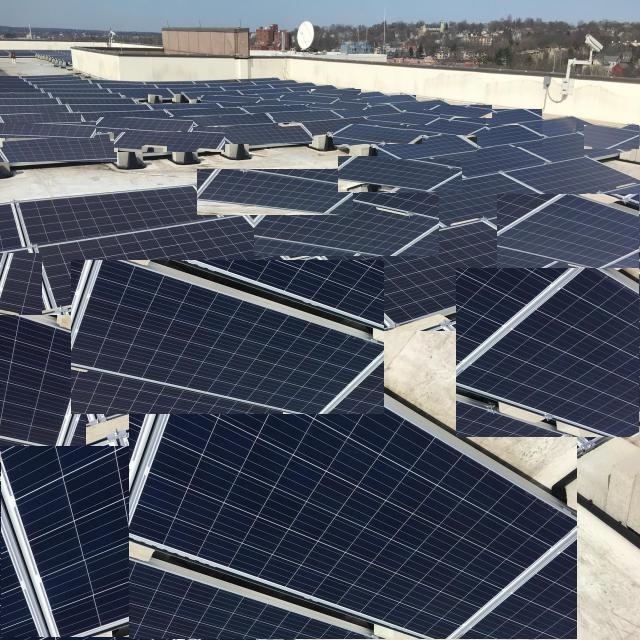Non Defective: (129, 331, 577, 639), (71, 260, 384, 414), (1, 447, 169, 637), (456, 269, 640, 437), (332, 223, 561, 322), (41, 219, 283, 304), (254, 193, 439, 256), (0, 316, 86, 446), (23, 189, 218, 243), (498, 195, 639, 268), (403, 175, 552, 227), (197, 169, 353, 215), (513, 158, 635, 201), (339, 156, 462, 192), (434, 145, 547, 177), (1, 135, 117, 162), (516, 134, 621, 161), (114, 127, 225, 152), (1, 254, 42, 317), (378, 135, 477, 159), (215, 124, 312, 144), (457, 125, 542, 147), (334, 125, 422, 144), (521, 117, 601, 137), (0, 122, 96, 138), (96, 117, 193, 132), (584, 125, 640, 149), (408, 118, 486, 135), (297, 118, 375, 135), (471, 110, 542, 126), (368, 111, 440, 125), (189, 114, 273, 126), (267, 111, 341, 123), (428, 105, 492, 118), (333, 106, 401, 117), (2, 206, 20, 246), (1, 114, 81, 123), (167, 108, 245, 116), (307, 100, 367, 110), (242, 105, 310, 113), (280, 95, 339, 104), (221, 100, 283, 108), (201, 95, 260, 103), (259, 92, 314, 100), (362, 96, 416, 104), (311, 89, 361, 95), (290, 86, 336, 91)
